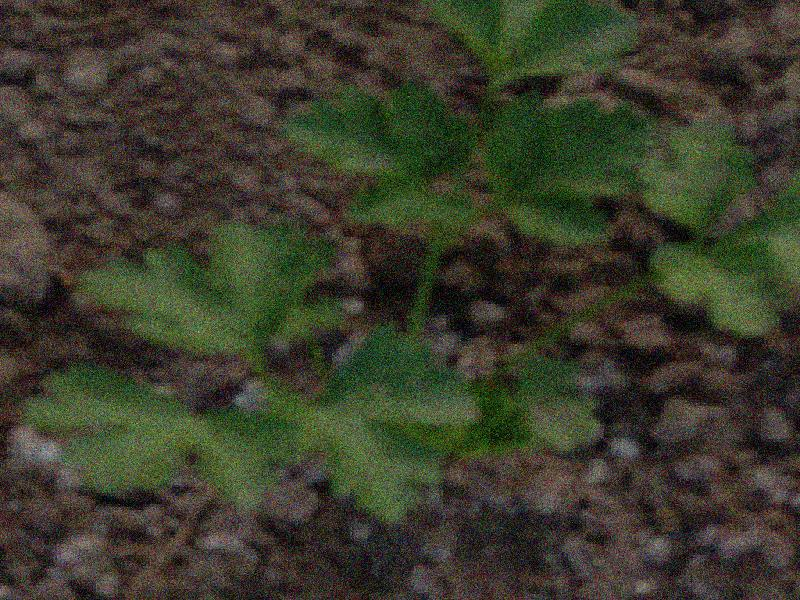radish: (19, 7, 800, 520)
